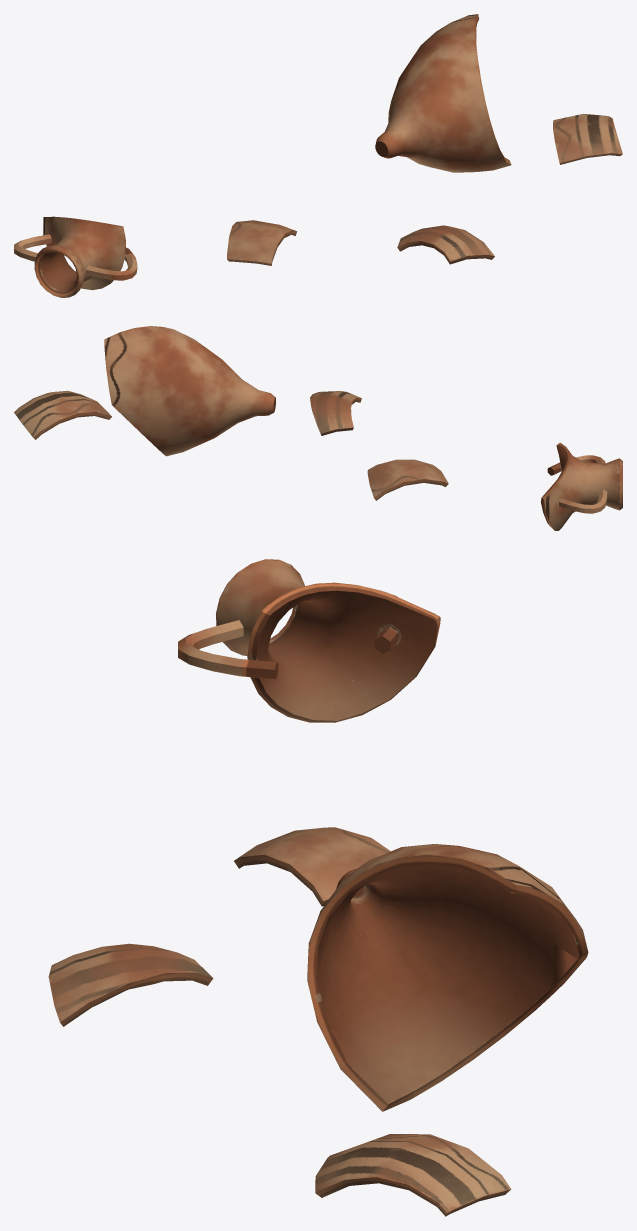
The model's file is pot_broken.glb.
The picture shows the model from 3 angles, top to bottom: view 1: azimuth 30°, elevation 25°; view 2: azimuth 150°, elevation 25°; view 3: azimuth 270°, elevation 25°; orthographic projection. The views are drawn at different scales.
Visible parts, largest first — view 1: pot_broken; view 2: pot_broken; view 3: pot_broken.
Part boxes in pixels (x1=…): pot_broken: x1=14, y1=14, x2=622, y2=297; pot_broken: x1=14, y1=326, x2=622, y2=530; pot_broken: x1=48, y1=559, x2=588, y2=1216.
Bounding box in the file's own units: 1.51 × 0.3165 × 0.6177.
Materials: 1 (1 with a texture image).
